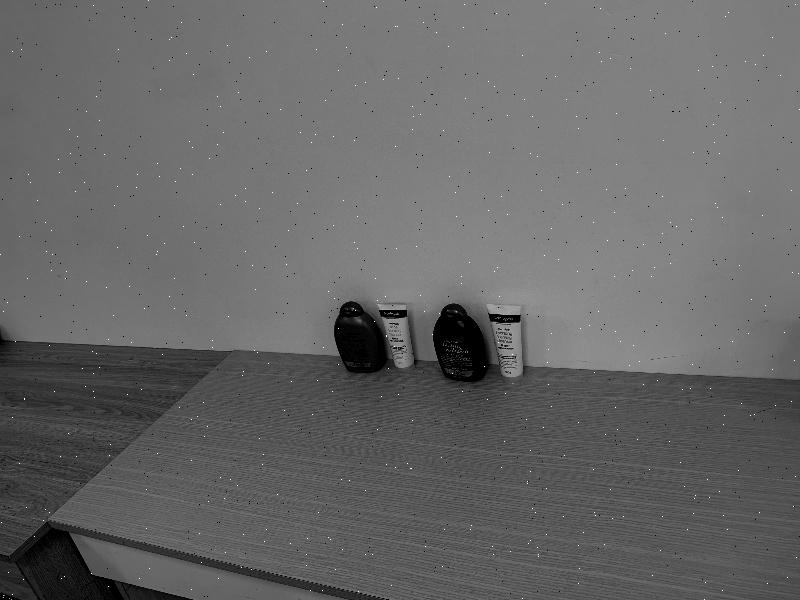AcneFoamingCleanser: (383, 302, 414, 374)
BiotinCollagen_Shampoo: (433, 303, 485, 382)
BrazilianKerationTherapy_Conditioner: (334, 301, 384, 372)
HydratingFoamingCleanser: (486, 304, 523, 384)
